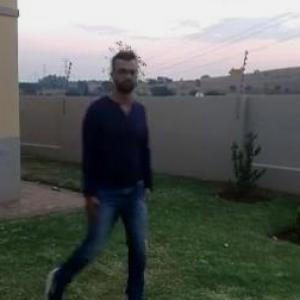follow: (57, 48, 158, 298)
